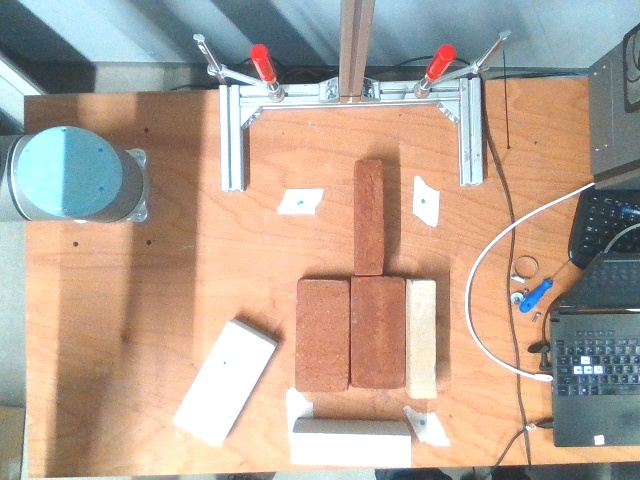brick: (174, 321, 275, 445), (352, 279, 404, 386), (298, 281, 346, 390)
brick-side: (292, 433, 411, 464), (356, 161, 383, 273), (411, 281, 435, 397)
